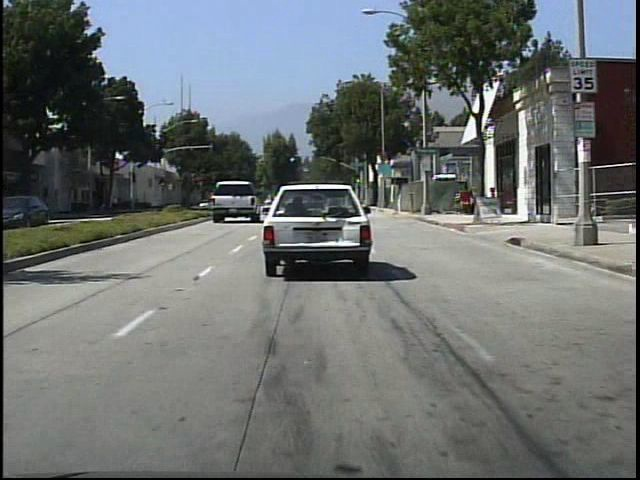person: (38, 195, 57, 225)
